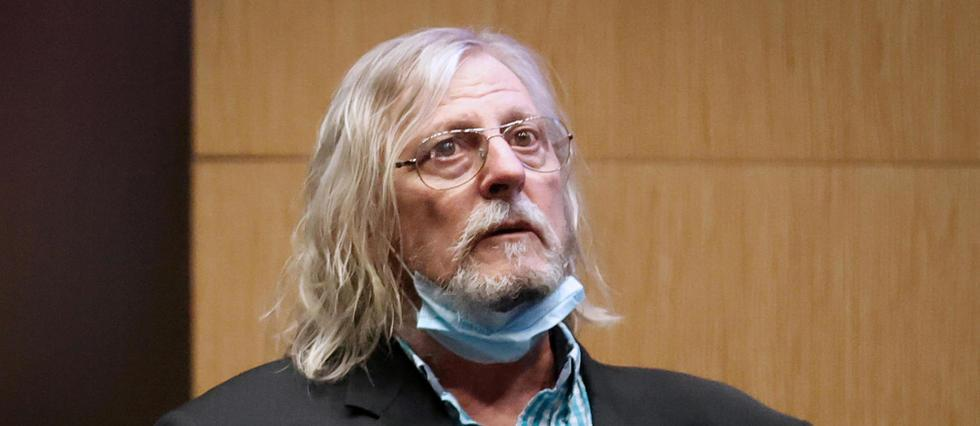with_incorrect_mask: (350, 71, 586, 365)
